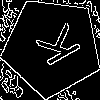K: (27, 21, 82, 73)
